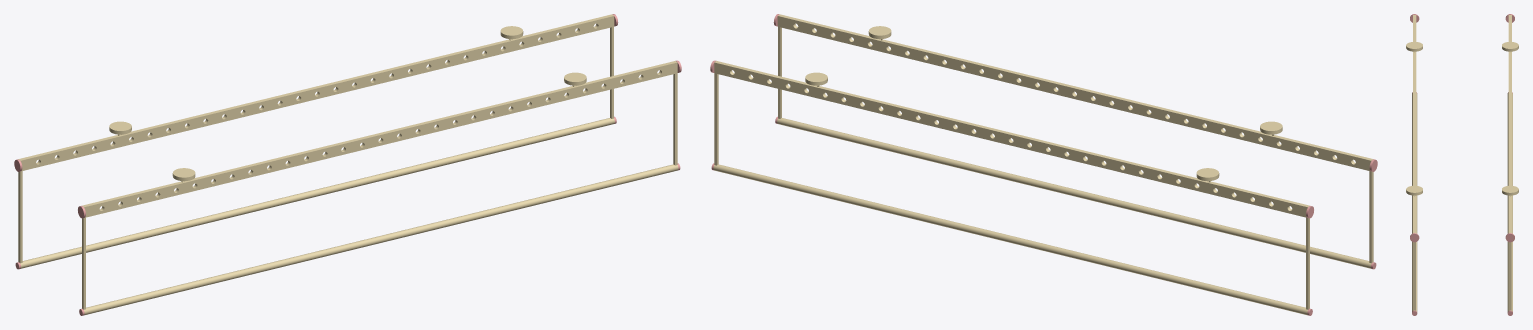
The model's file is drying-rack-hotata-y024-v1.glb.
The picture shows the model from 3 angles, left to right: view 1: azimuth 30°, elevation 25°; view 2: azimuth 150°, elevation 25°; view 3: azimuth 270°, elevation 25°; orthographic projection. The views are drawn at different scales.
Visible parts, largest first — view 1: moving-window-hang-rail, moving-room-hang-rail, moving-room-quilt-rail, moving-window-quilt-rail, moving-room-link-right; view 2: moving-room-hang-rail, moving-window-hang-rail, moving-window-quilt-rail, moving-room-quilt-rail, moving-window-link-right; view 3: moving-room-hang-rail, moving-window-hang-rail, moving-room-quilt-rail, moving-window-quilt-rail, moving-room-link-right, moving-window-link-right, ceiling-room-right, ceiling-window-right, ceiling-room-left, ceiling-window-left.
Boxes of the visible parts, x1=… form: moving-window-hang-rail: x1=18, y1=14, x2=614, y2=171; moving-room-hang-rail: x1=82, y1=61, x2=677, y2=217; moving-room-quilt-rail: x1=84, y1=164, x2=678, y2=315; moving-window-quilt-rail: x1=20, y1=118, x2=614, y2=268; moving-room-link-right: x1=673, y1=73, x2=677, y2=165; moving-room-hang-rail: x1=777, y1=14, x2=1373, y2=171; moving-window-hang-rail: x1=714, y1=61, x2=1309, y2=217; moving-window-quilt-rail: x1=713, y1=164, x2=1307, y2=315; moving-room-quilt-rail: x1=777, y1=118, x2=1371, y2=268; moving-window-link-right: x1=714, y1=73, x2=718, y2=165; moving-room-hang-rail: x1=1413, y1=15, x2=1416, y2=233; moving-window-hang-rail: x1=1508, y1=15, x2=1511, y2=233; moving-room-quilt-rail: x1=1412, y1=93, x2=1417, y2=311; moving-window-quilt-rail: x1=1507, y1=93, x2=1512, y2=311; moving-room-link-right: x1=1413, y1=242, x2=1415, y2=310; moving-window-link-right: x1=1509, y1=242, x2=1511, y2=310; ceiling-room-right: x1=1406, y1=185, x2=1422, y2=195; ceiling-window-right: x1=1502, y1=185, x2=1518, y2=195; ceiling-room-left: x1=1406, y1=41, x2=1422, y2=51; ceiling-window-left: x1=1502, y1=41, x2=1518, y2=51.
Size of the model in its own units: 2.44 by 0.46 by 0.53.
